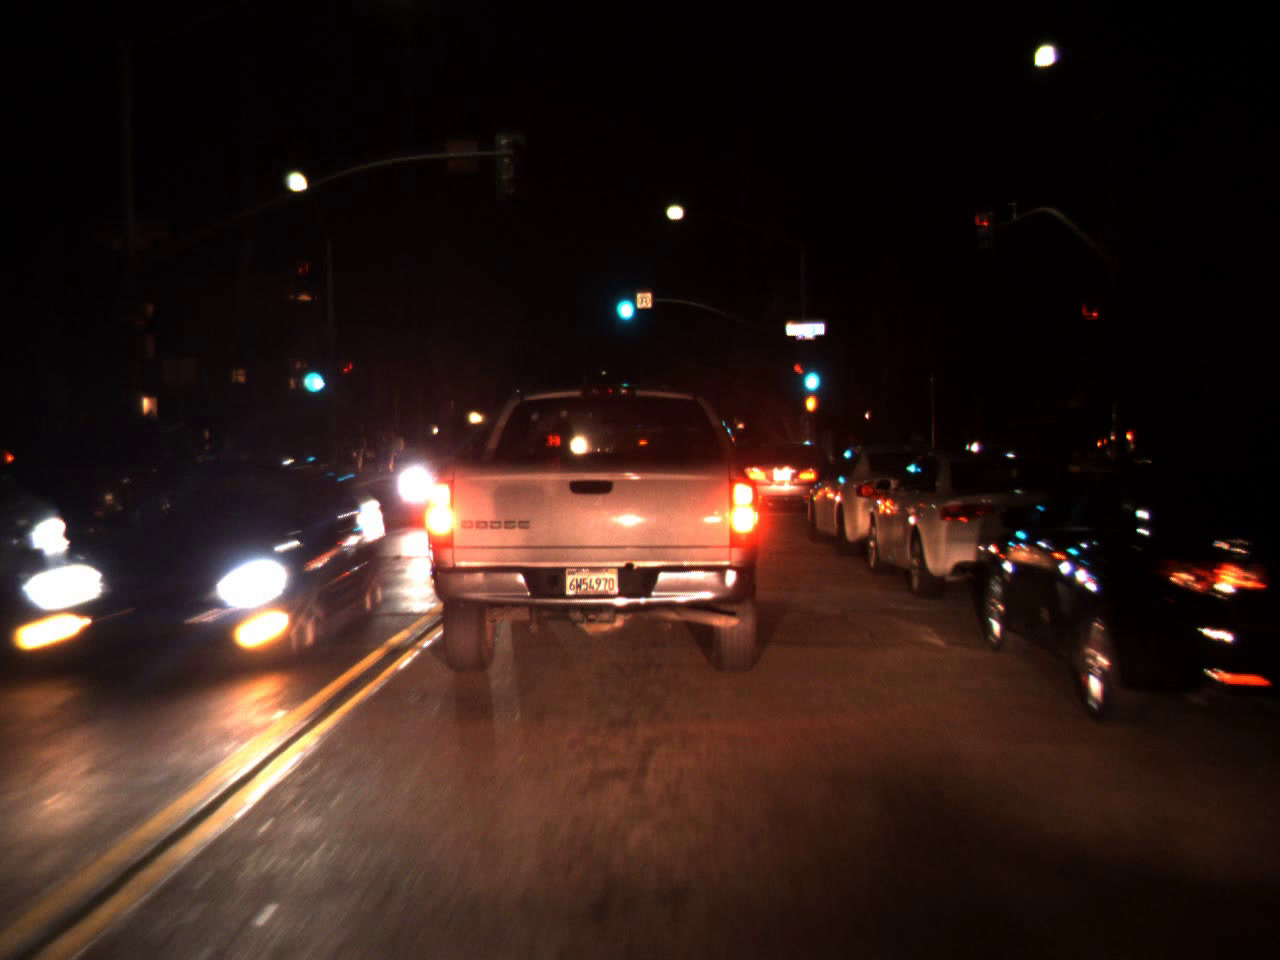go: (610, 274, 638, 328), (298, 350, 326, 398), (798, 350, 823, 398)
